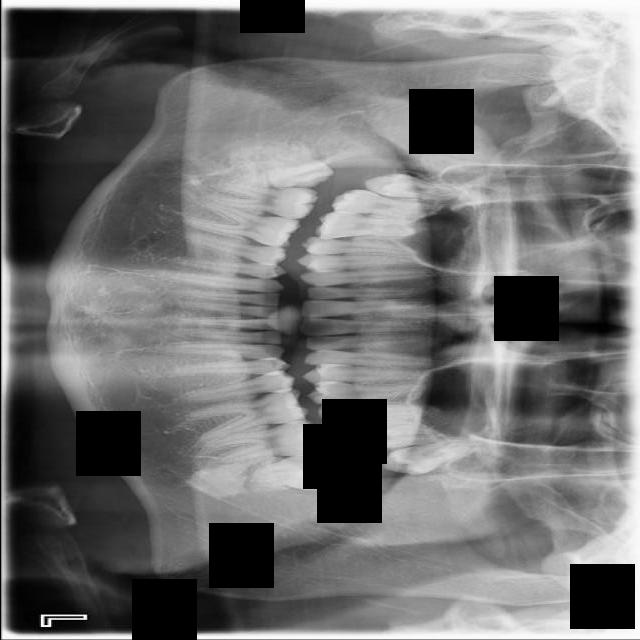3M ESPE Implant: (363, 169, 464, 205)
73: (70, 608, 80, 613)
BioHorizons Implant: (326, 419, 446, 462)
BioLife Implant: (377, 431, 478, 484)
Biomet 3i Implant: (244, 453, 337, 493)
Blue Sky Bio Implant: (203, 417, 322, 467)
Caries: (330, 187, 440, 222)
Implant: (200, 182, 317, 221)
Keystone Dental Implant: (257, 134, 338, 195)
